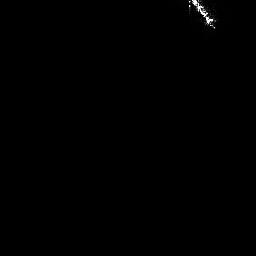ship: (185, 1, 218, 29)
